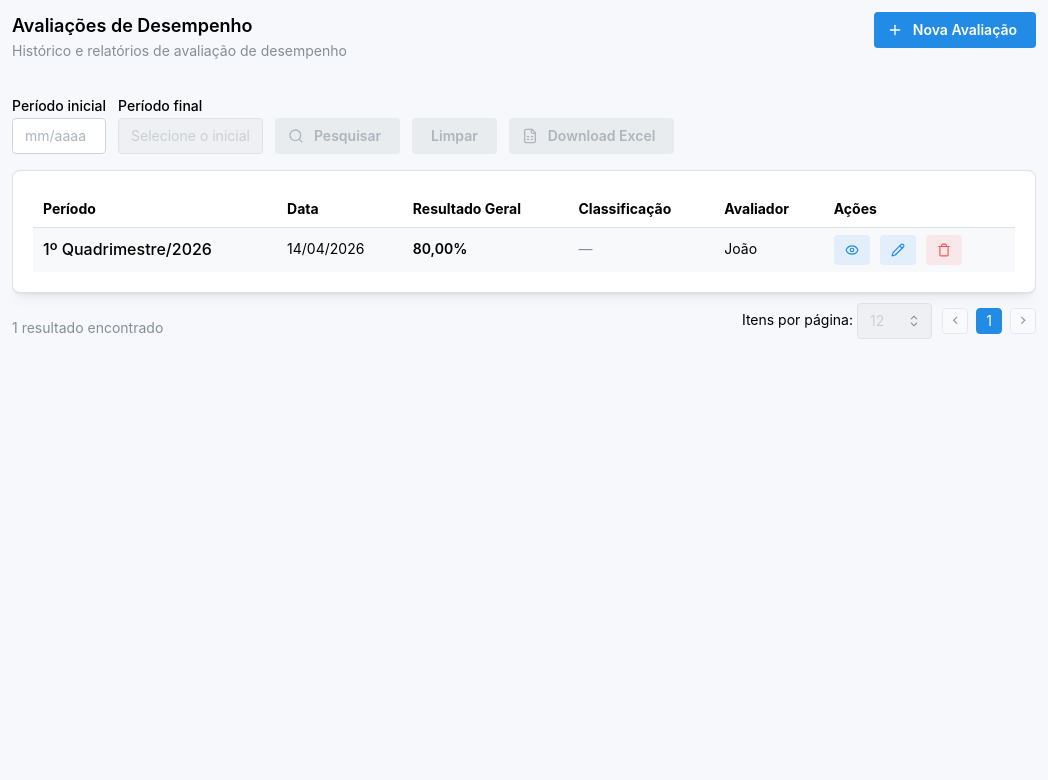
PerformanceEvaluationTab › returns to list view when canceling add form
This screenshot has width=1048, height=780.
Step 1. Click the button "Nova Avaliação" → {"x": 955, "y": 30}, box top-left (874, 12), bottom-right (1036, 48)
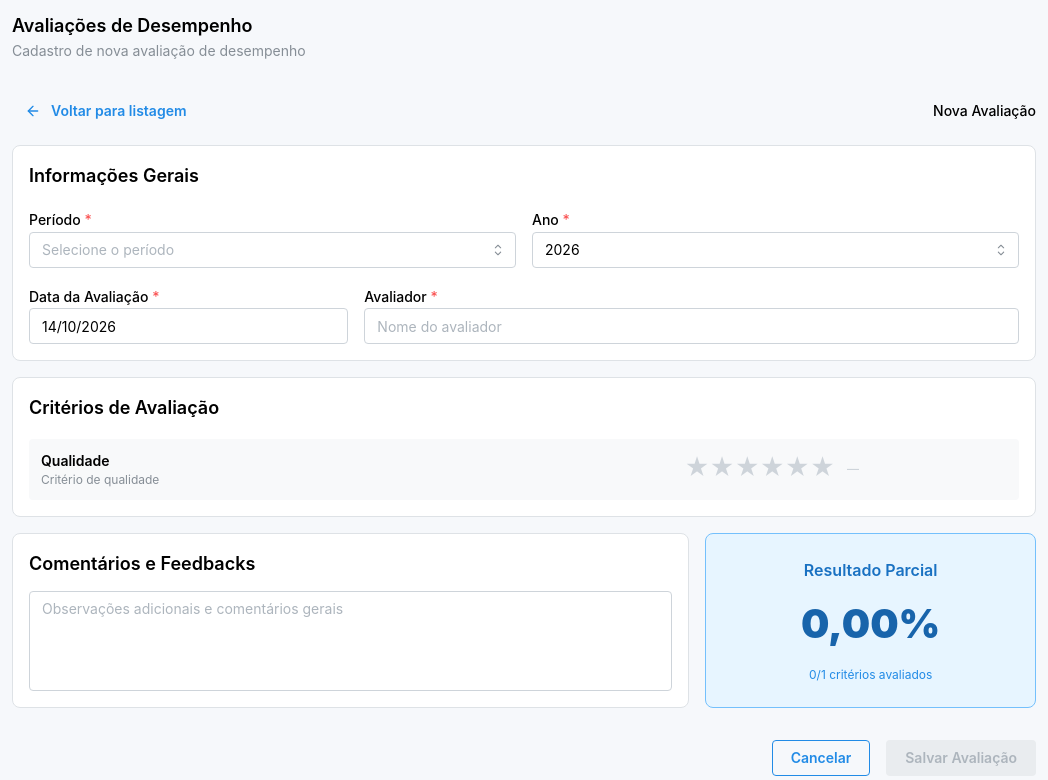
Check: the text "Critérios de Avaliação" is shown, box top-left (29, 398), bottom-right (219, 418)
Step 2. Click the button "Cancelar" → {"x": 821, "y": 758}, box top-left (772, 740), bottom-right (870, 776)
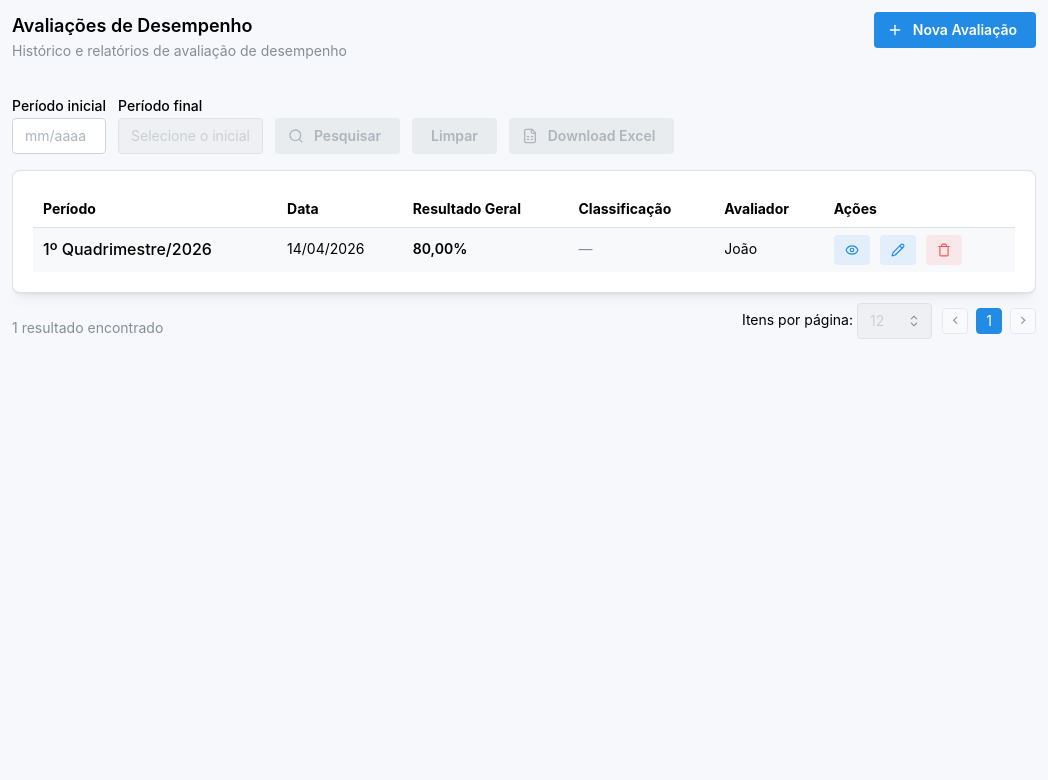
Check: the text "Histórico e relatórios de avaliação de desempenho" is shown, box top-left (12, 41), bottom-right (347, 61)
Check: the button "Voltar para listagem" is gone
Check: the text "Critérios de Avaliação" is gone
